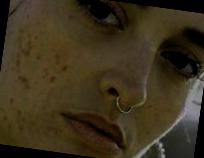Acne: (15, 75, 31, 89), (13, 50, 23, 68), (15, 108, 24, 116), (49, 76, 56, 85), (67, 12, 74, 20), (36, 54, 41, 60), (62, 64, 66, 70), (10, 98, 14, 103)
